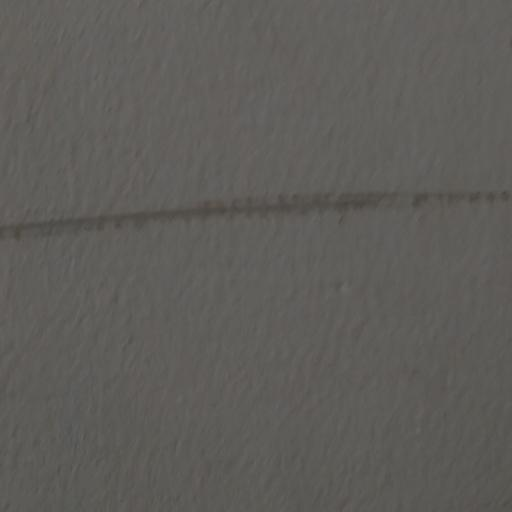stain: (0, 187, 512, 249)
